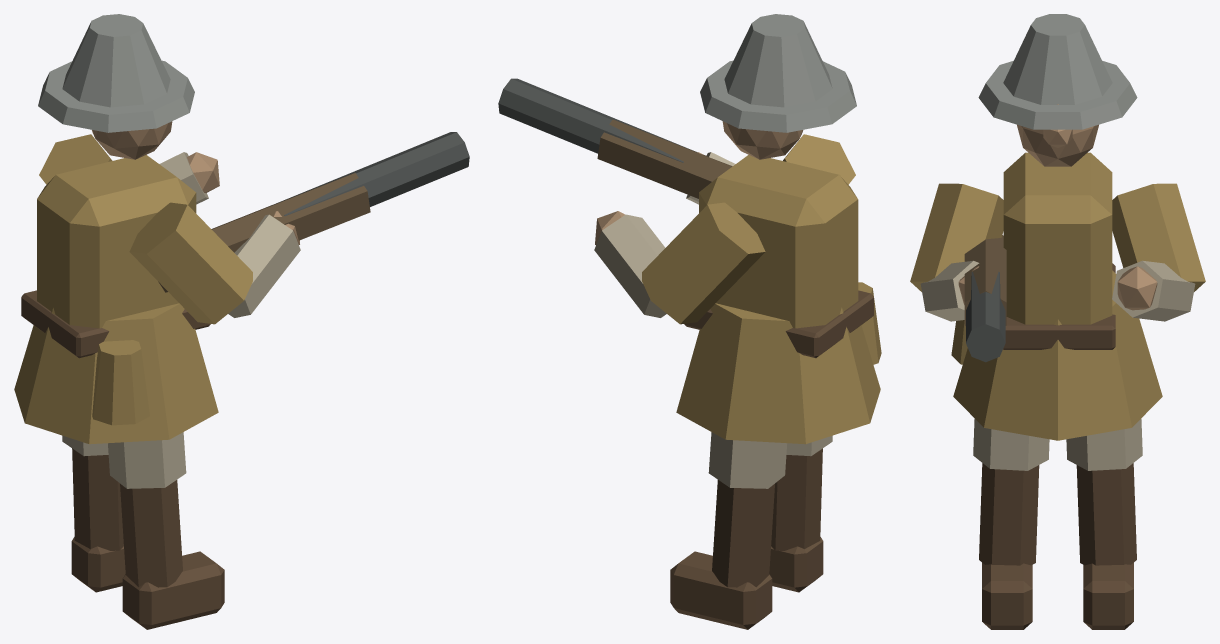
Rendered from infantry_handgun_flat.glb.
3 views of the same model, side by side, from view 1: azimuth 30°, elevation 25°; view 2: azimuth 150°, elevation 25°; view 3: azimuth 270°, elevation 25° (orthographic).
Parts seen in each view (by area): view 1: infantry_handgun_flat; view 2: infantry_handgun_flat; view 3: infantry_handgun_flat.
Part boxes in pixels (bbox=[...]): infantry_handgun_flat: bbox=[14, 14, 469, 629]; infantry_handgun_flat: bbox=[498, 14, 881, 629]; infantry_handgun_flat: bbox=[910, 14, 1205, 629].
Bounding box in the file's own units: 1.27 × 1.75 × 0.8186.
